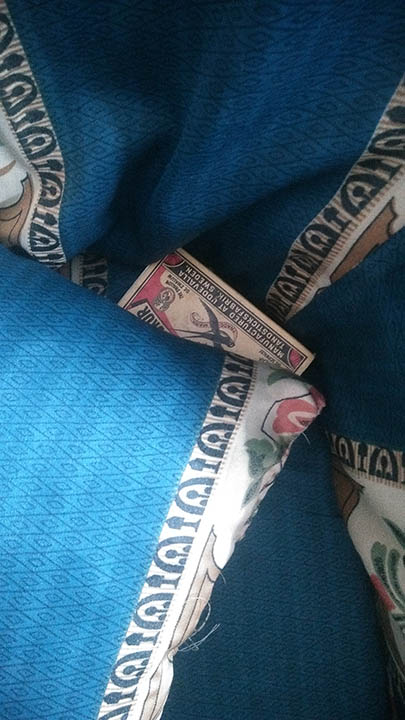match-sticks .90$: (104, 213, 336, 419)
